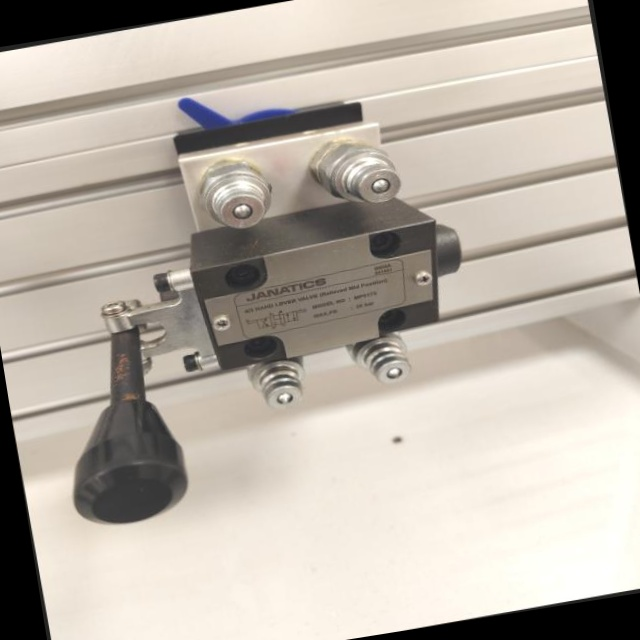4by3 hand lever valve: (2, 52, 512, 541)
